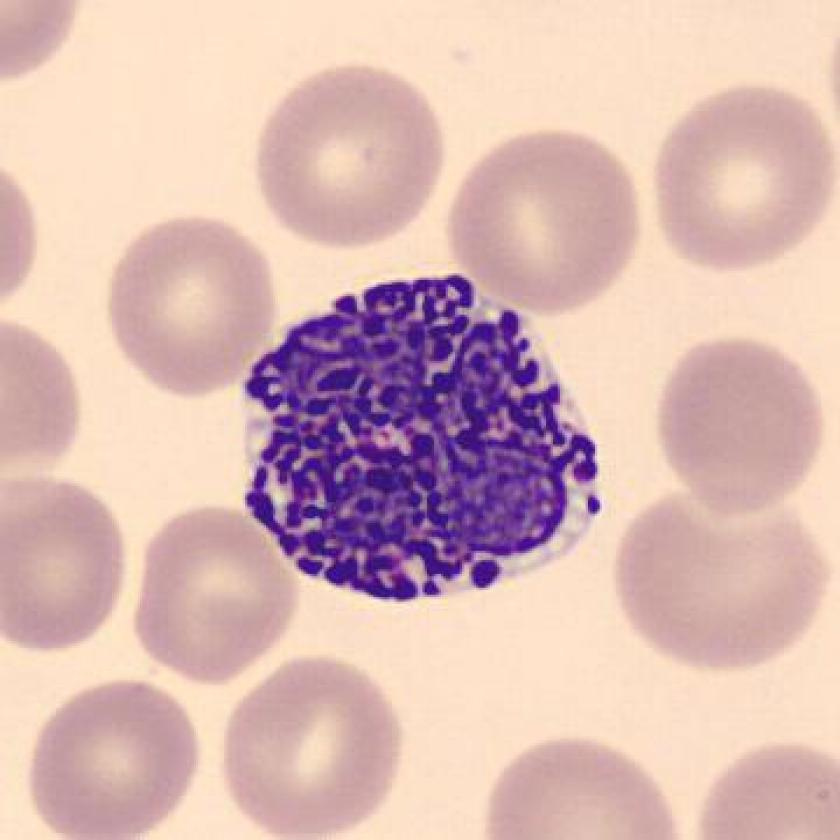basophil: (234, 270, 610, 608)
